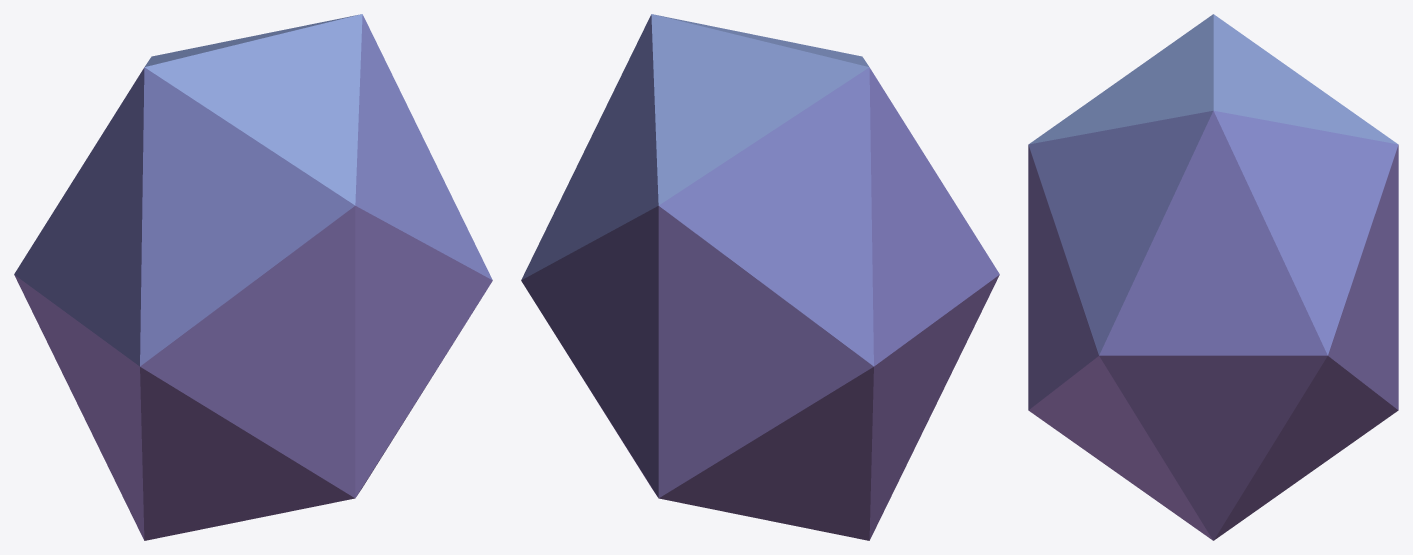
3 renders of one model, left to right at view 1: azimuth 30°, elevation 25°; view 2: azimuth 150°, elevation 25°; view 3: azimuth 270°, elevation 25°, orthographic. The views are drawn at different scales.
Visible parts, largest first — view 1: Gem; view 2: Gem; view 3: Gem.
Part boxes in pixels (left/top/right/bottom): Gem: left=14, top=14, right=492, bottom=540; Gem: left=521, top=14, right=999, bottom=540; Gem: left=1028, top=14, right=1398, bottom=540.
Size of the model in its own units: 1.57 by 2.01 by 1.57.
